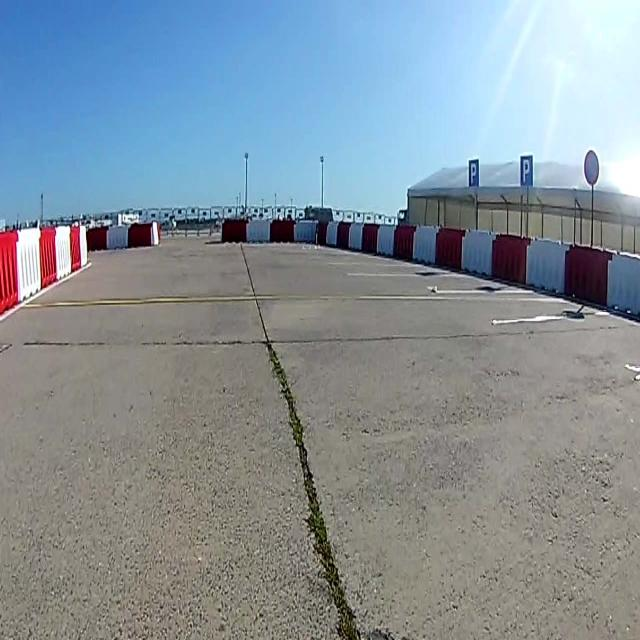park: (520, 156, 532, 185), (468, 159, 479, 187)
